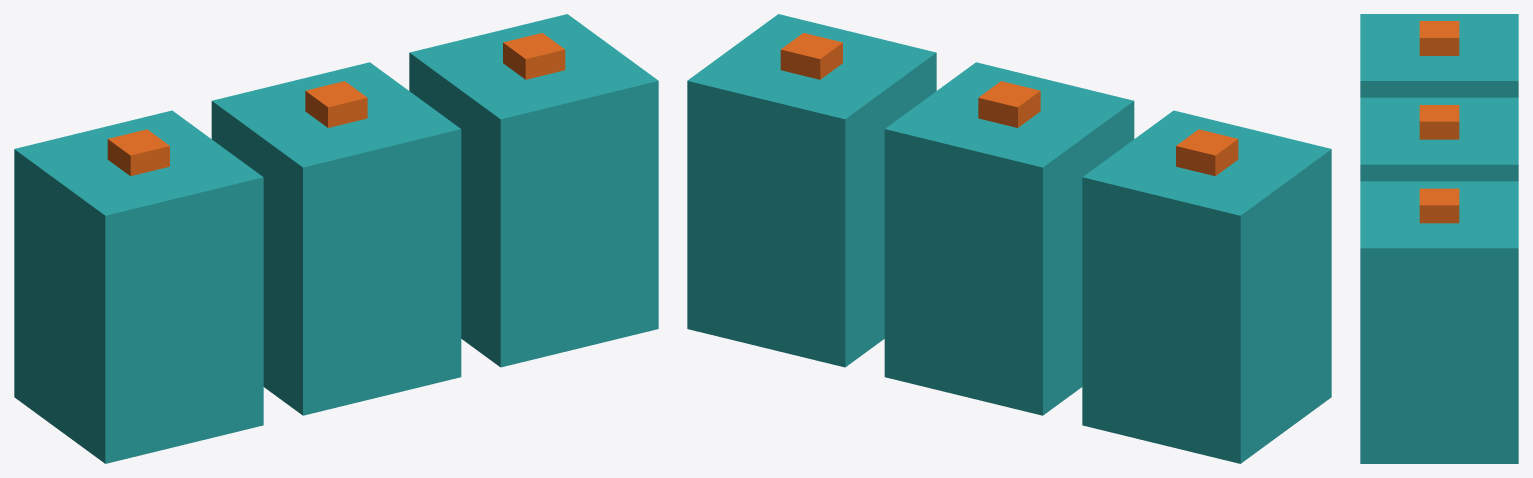
The model's file is colony-battery-bank.glb.
The picture shows the model from 3 angles, left to right: view 1: azimuth 30°, elevation 25°; view 2: azimuth 150°, elevation 25°; view 3: azimuth 270°, elevation 25°; orthographic projection. The views are drawn at different scales.
Visible parts, largest first — view 1: battery_bank; view 2: battery_bank; view 3: battery_bank.
Part boxes in pixels (x1=…): battery_bank: x1=14, y1=14, x2=658, y2=463; battery_bank: x1=687, y1=14, x2=1331, y2=463; battery_bank: x1=1360, y1=14, x2=1518, y2=463.
Size of the model in its own units: 2.8 by 1.3 by 0.8.
